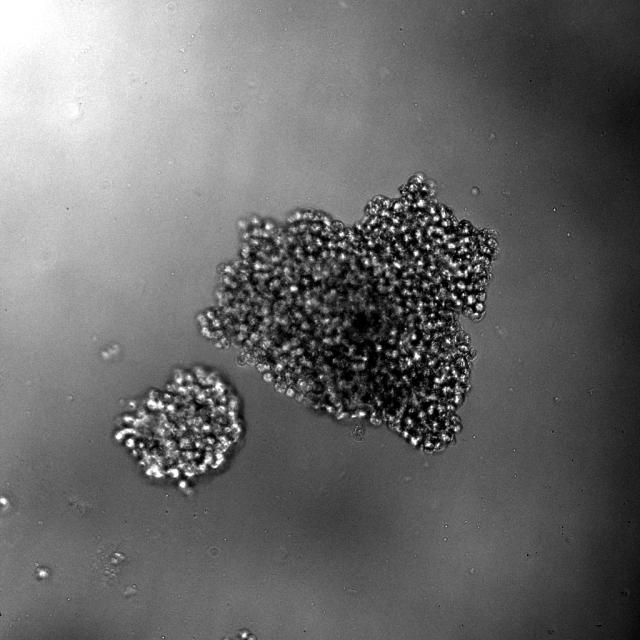organoid: (199, 174, 497, 451), (114, 367, 244, 493)
